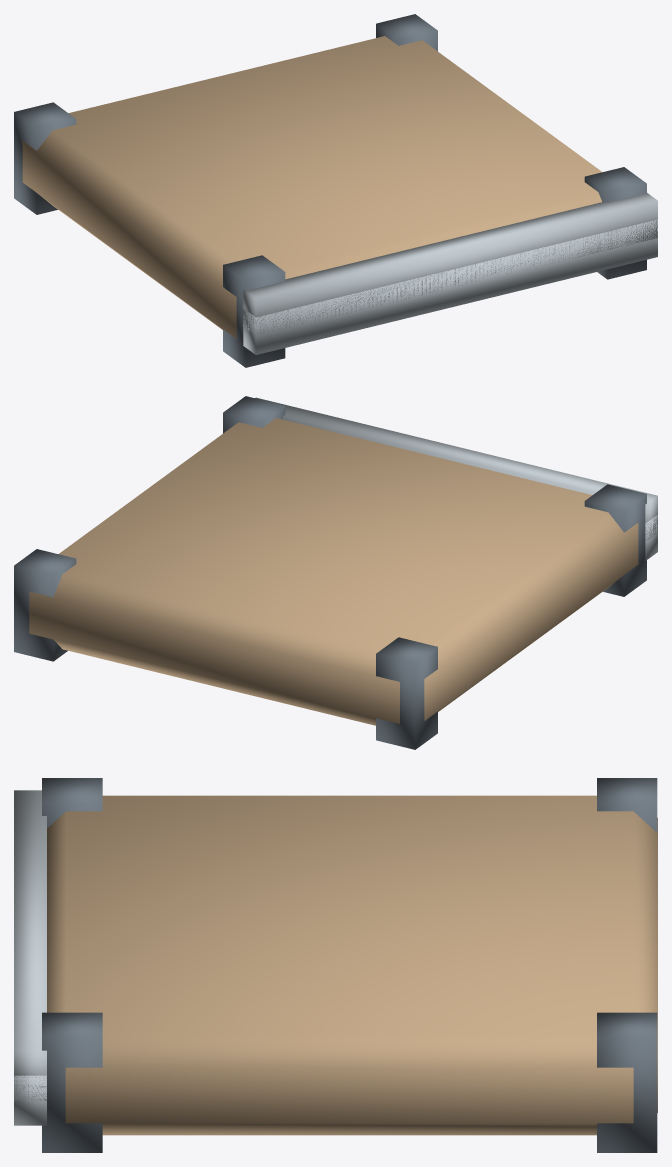
The model's file is pallet_ultra.glb.
3 views of the same model, one above another, from view 1: azimuth 30°, elevation 25°; view 2: azimuth 150°, elevation 25°; view 3: azimuth 270°, elevation 25° (orthographic). The views are drawn at different scales.
Visible parts, largest first — view 1: Container_wood, Frame_steel, Frame_dark; view 2: Container_wood, Frame_dark, Frame_steel; view 3: Container_wood, Frame_dark, Frame_steel.
Part boxes in pixels (box(x1,y1,x2,y2)): Container_wood: box(22, 36, 602, 338); Frame_steel: box(243, 193, 657, 354); Frame_dark: box(14, 14, 646, 367); Container_wood: box(29, 418, 638, 725); Frame_dark: box(14, 396, 646, 749); Frame_steel: box(255, 397, 657, 560); Container_wood: box(47, 795, 657, 1135); Frame_dark: box(42, 778, 657, 1152); Frame_steel: box(14, 790, 46, 1125).
Size of the model in its own units: 1.12 by 0.23 by 1.17.
